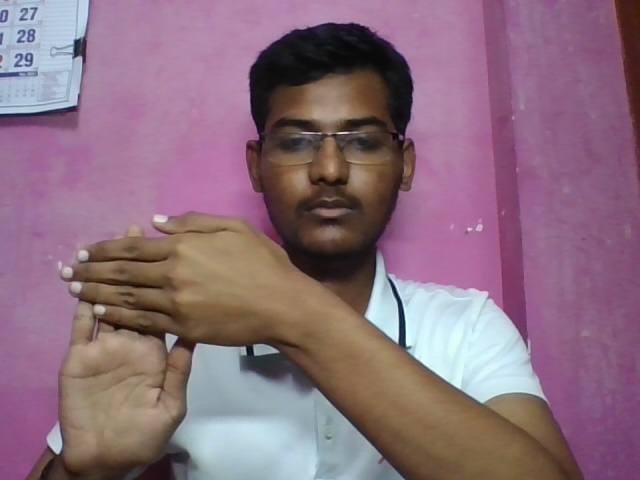Hello: (41, 197, 291, 480)
